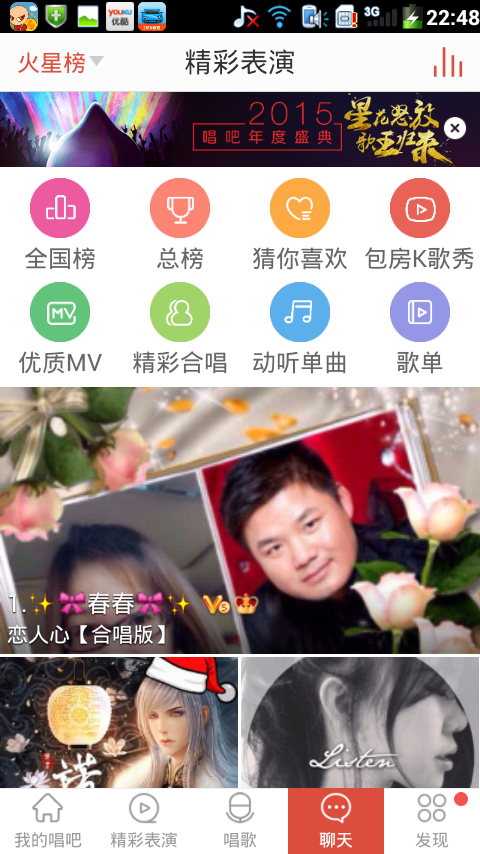button: (128, 178, 218, 239)
imgview: (207, 445, 458, 626)
nav: (8, 784, 463, 854)
